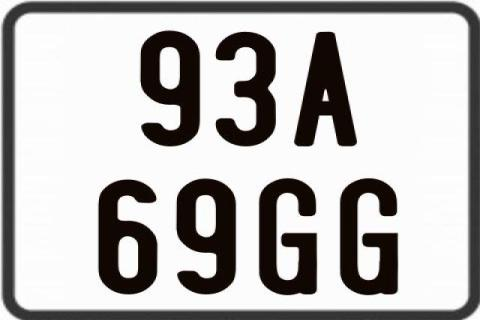0: (98, 180, 160, 300), (139, 28, 201, 147), (176, 177, 238, 295), (216, 30, 276, 150)
A: (291, 29, 356, 149)
G: (340, 178, 404, 300), (259, 179, 322, 299)
